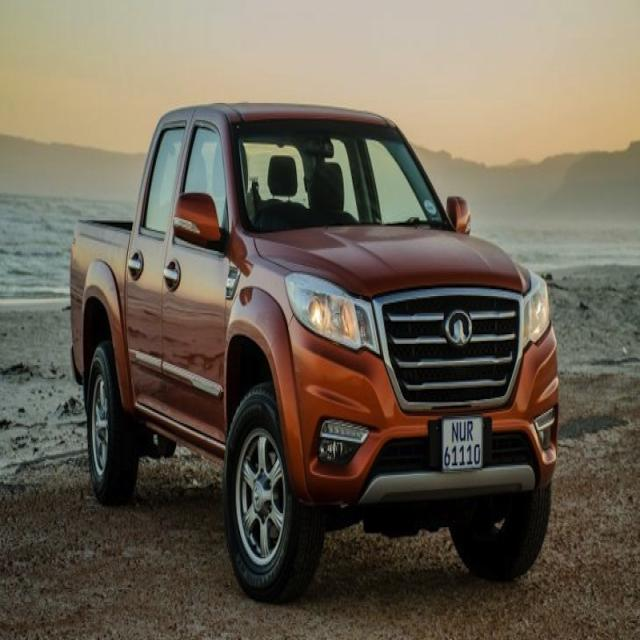Pickup Trucks: (70, 103, 562, 603)
